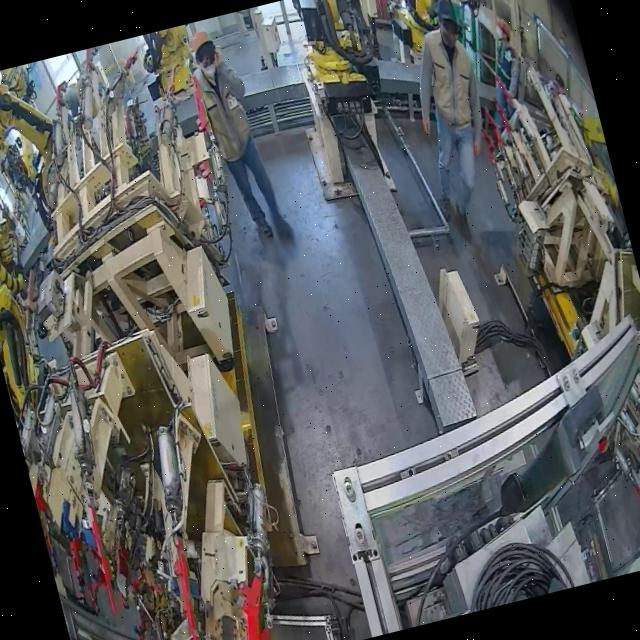Person: (179, 19, 295, 254), (391, 0, 509, 226), (472, 15, 537, 140)
